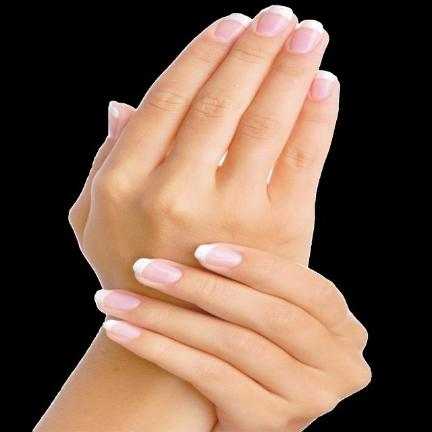Nail: (132, 258, 182, 285), (214, 12, 252, 42), (289, 20, 323, 53), (194, 245, 242, 268), (256, 5, 293, 34), (95, 290, 140, 309), (103, 320, 140, 339), (310, 71, 334, 99), (109, 103, 118, 137)
